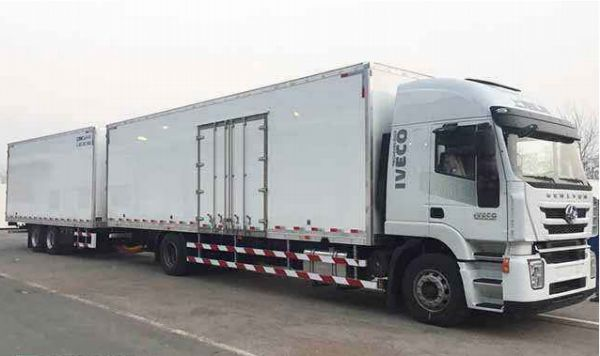truck: (269, 61, 598, 330)
